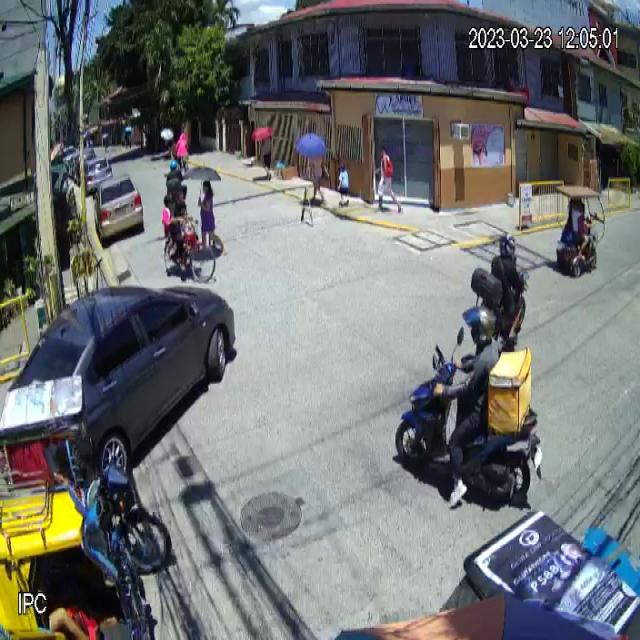Car: (0, 284, 239, 477), (93, 173, 145, 244)
Motorcycle: (394, 326, 544, 507), (471, 266, 529, 338)
Tricycle: (0, 375, 171, 640)
